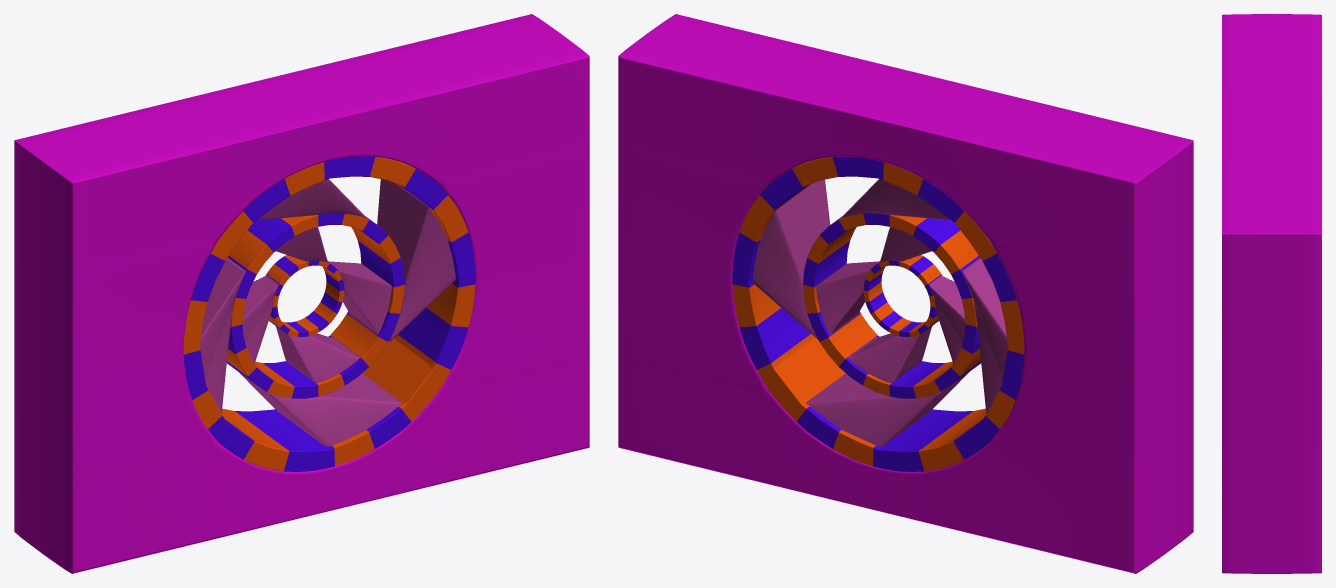
The model's file is Vent.fbx.
3 views of the same model, side by side, from view 1: azimuth 30°, elevation 25°; view 2: azimuth 150°, elevation 25°; view 3: azimuth 270°, elevation 25° (orthographic). The views are drawn at different scales.
Visible parts, largest first — view 1: involucro, ventole, contorno_ventoloe_01, contorno_ventole_02, contorno_ventole_03; view 2: involucro, ventole, contorno_ventoloe_01, contorno_ventole_02, contorno_ventole_03; view 3: involucro.
Boxes of the visible parts, x1=… form: involucro: x1=14, y1=14, x2=589, y2=573; ventole: x1=200, y1=179, x2=455, y2=446; contorno_ventoloe_01: x1=183, y1=156, x2=475, y2=471; contorno_ventole_02: x1=226, y1=213, x2=404, y2=398; contorno_ventole_03: x1=266, y1=255, x2=344, y2=336; involucro: x1=618, y1=14, x2=1193, y2=573; ventole: x1=752, y1=179, x2=1007, y2=446; contorno_ventoloe_01: x1=732, y1=156, x2=1024, y2=471; contorno_ventole_02: x1=803, y1=213, x2=981, y2=398; contorno_ventole_03: x1=863, y1=255, x2=941, y2=336; involucro: x1=1222, y1=14, x2=1321, y2=573.
Bounding box in the file's own units: 9.66 × 6.97 × 1.86.
